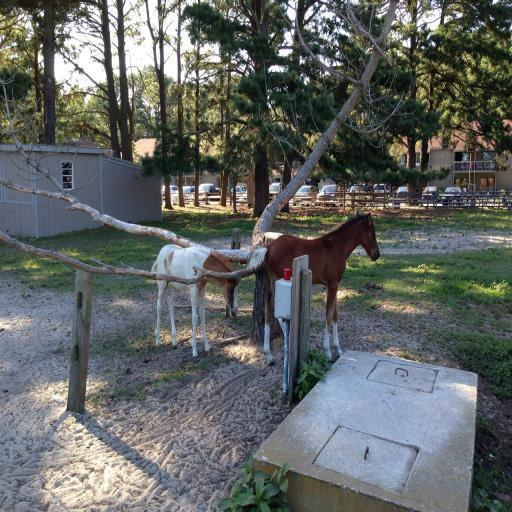horse: (251, 212, 381, 364), (149, 246, 242, 360)
